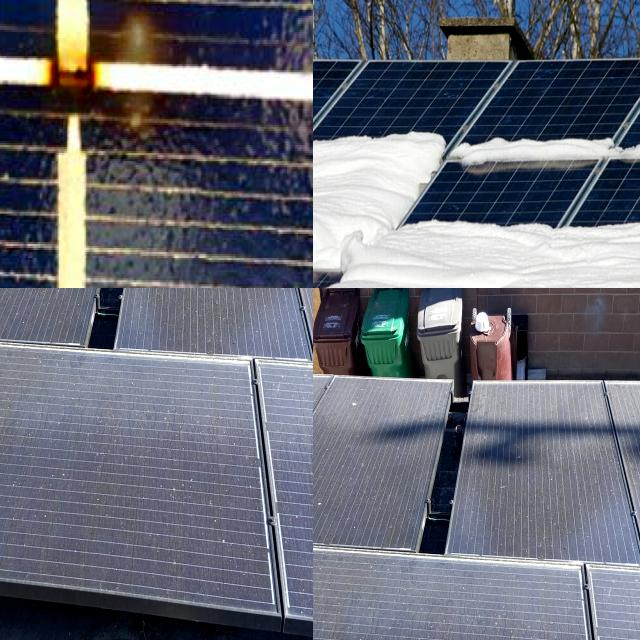dust: (0, 349, 235, 582), (313, 554, 566, 640), (477, 387, 610, 541), (313, 403, 430, 516), (146, 288, 278, 365), (275, 375, 313, 615), (0, 288, 99, 344), (313, 404, 357, 522), (0, 288, 44, 346)
panel: (408, 210, 640, 288), (313, 110, 478, 195), (454, 126, 618, 208), (313, 218, 454, 288)
shadow: (27, 0, 176, 159)
